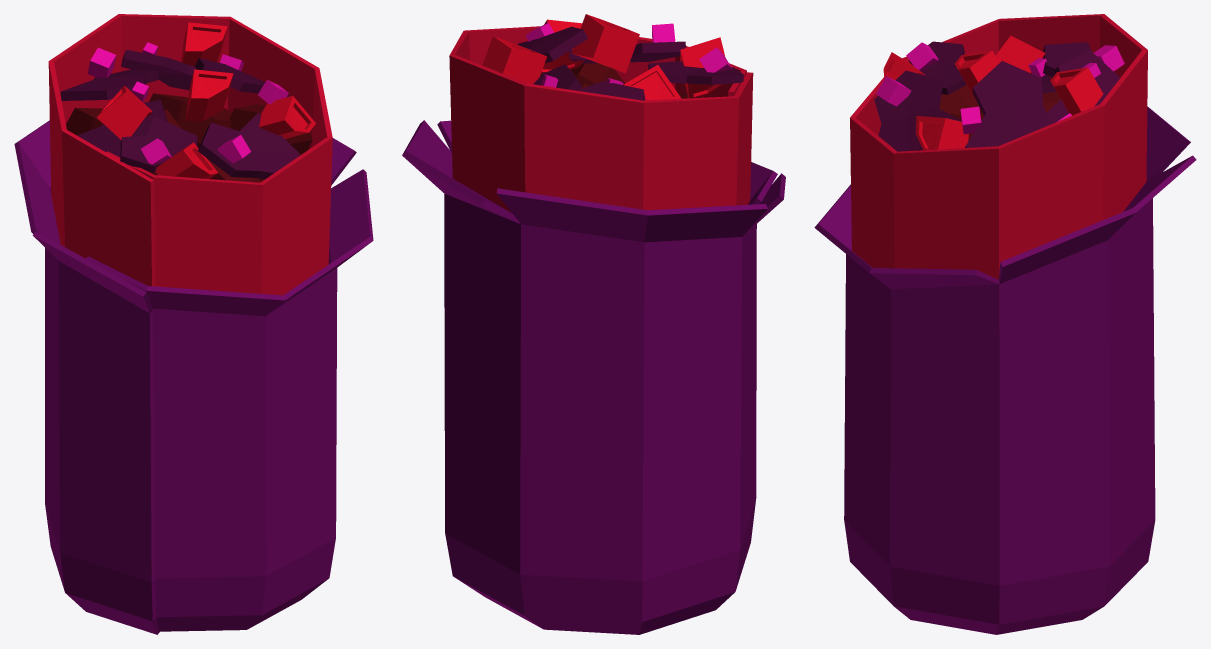
The model's file is Burrito_01.fbx.
3 renders of one model, left to right at view 1: azimuth 30°, elevation 25°; view 2: azimuth 150°, elevation 25°; view 3: azimuth 270°, elevation 25°, orthographic. The views are drawn at different scales.
Parts seen in each view (by area): view 1: Burrito_01; view 2: Burrito_01; view 3: Burrito_01.
Part boxes in pixels (bbox=[...]): Burrito_01: bbox=[14, 14, 373, 634]; Burrito_01: bbox=[402, 14, 785, 634]; Burrito_01: bbox=[814, 14, 1196, 634].
Size of the model in its own units: 4.08 by 6.24 by 3.93.
